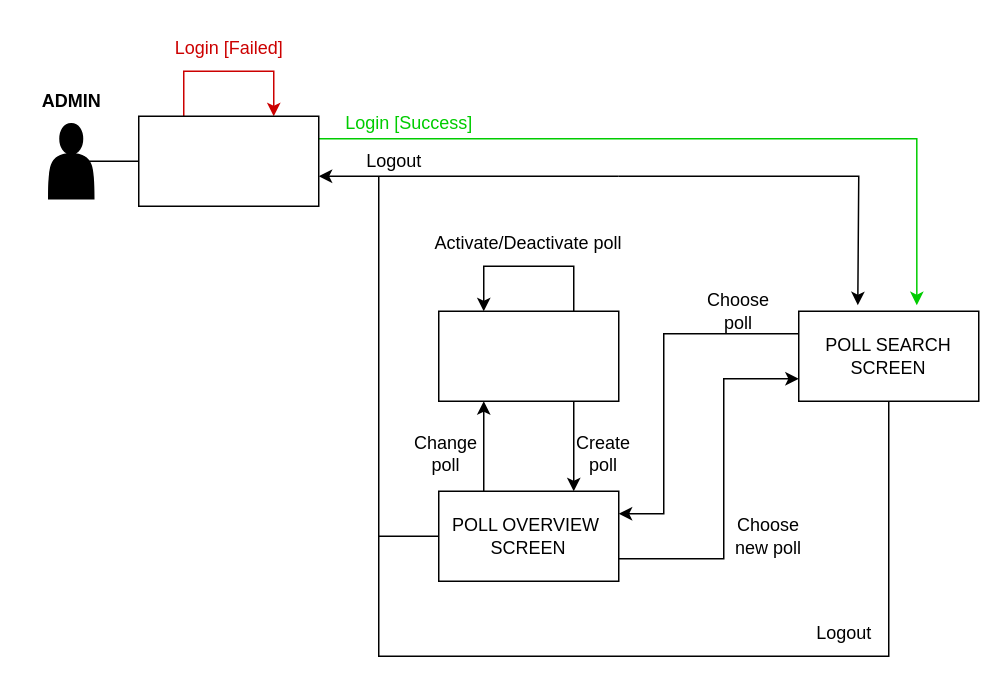
Image size: 1005x684. Some labels were removed from this diagram. Here are the shapes that lost their labels. From the top down, the box of each, then its label:
(137, 115, 319, 206): LOGIN SCREEN
(437, 310, 619, 401): POLL CREATION SCREEN
